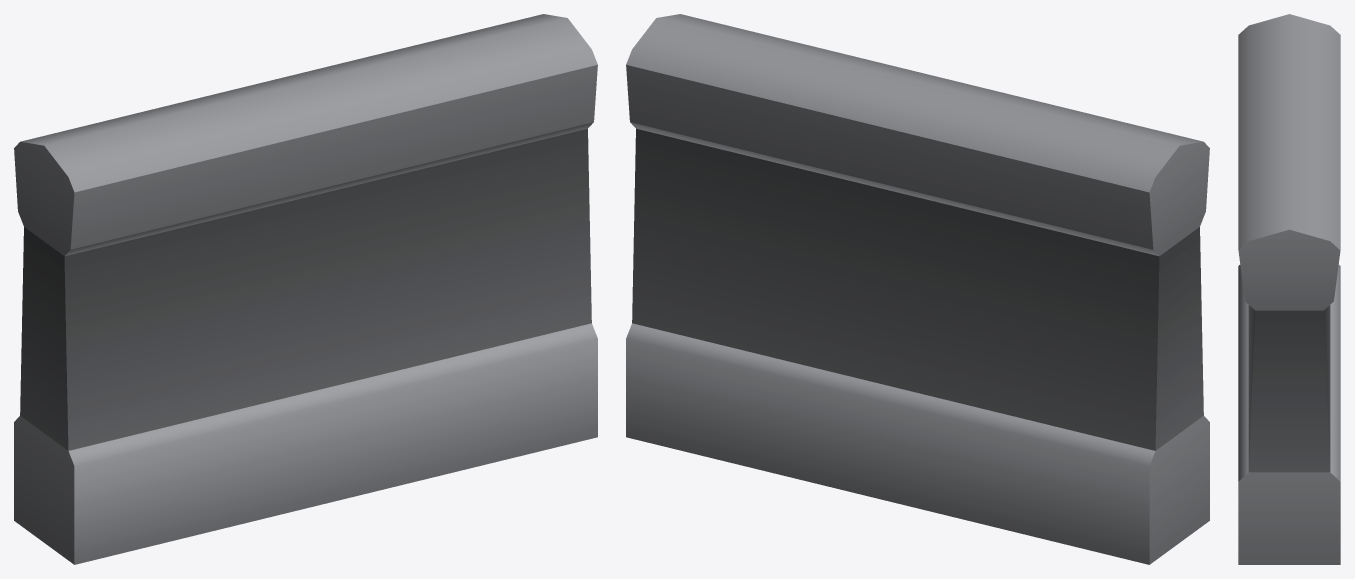
Rendered from stone-wall.glb.
3 views of the same model, side by side, from view 1: azimuth 30°, elevation 25°; view 2: azimuth 150°, elevation 25°; view 3: azimuth 270°, elevation 25° (orthographic). The views are drawn at different scales.
Parts seen in each view (by area): view 1: stone-wall; view 2: stone-wall; view 3: stone-wall.
Boxes of the visible parts, box(x1,y1,x2,y2) form: stone-wall: box(14, 14, 597, 564); stone-wall: box(626, 14, 1209, 564); stone-wall: box(1238, 14, 1340, 564).
Size of the model in its own units: 1.5 by 1.09 by 0.3.
Materials: 1 (1 with a texture image).
